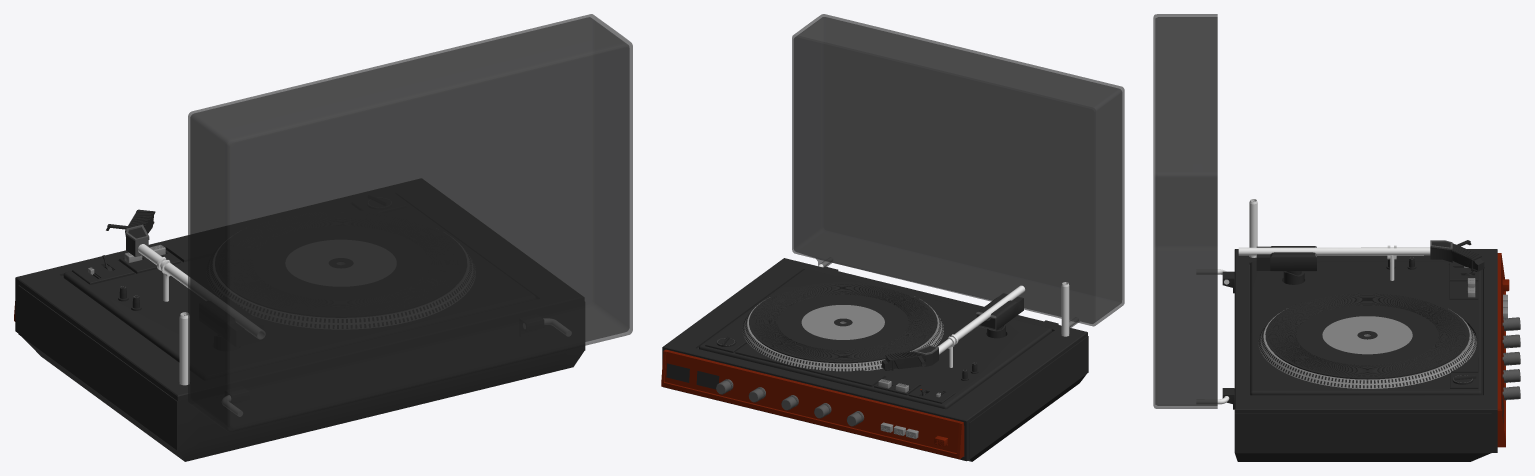
Rendered from Classic Record Player.fbx.
The picture shows the model from 3 angles, left to right: view 1: azimuth 30°, elevation 25°; view 2: azimuth 150°, elevation 25°; view 3: azimuth 270°, elevation 25°; orthographic projection. The views are drawn at different scales.
Parts seen in each view (by area): view 1: Cover, Body_2, Disk, Disk_Table, Bed_Disk, Base, Neck, Head, Main_Body, Body; view 2: Cover, Body_2, Disk, Disk_Table, Frontal_Part_Visor, Bed_Disk, Head, Base, Neck, Main_Body; view 3: Cover, Body_2, Disk, Disk_Table, Bed_Disk, Neck, Frontal_Part_Visor, Base, Head, Main_Body, Body.
Part boxes in pixels (x1,y1,x2,y2): Cover: (188,14,632,431); Body_2: (15,179,585,461); Disk: (215,210,466,316); Disk_Table: (63,193,535,379); Bed_Disk: (209,246,472,328); Base: (199,297,262,346); Neck: (138,244,264,338); Head: (106,209,155,256); Main_Body: (179,312,189,385); Body: (225,315,543,405); Cover: (792,14,1124,327); Body_2: (662,258,1088,461); Disk: (749,282,937,362); Disk_Table: (699,268,1051,409); Frontal_Part_Visor: (661,349,964,459); Bed_Disk: (742,296,943,371); Head: (882,345,938,370); Base: (975,293,1023,330); Neck: (937,285,1025,354); Main_Body: (1061,282,1069,336); Cover: (1153,14,1217,408); Body_2: (1234,249,1497,461); Disk: (1265,292,1469,378); Disk_Table: (1250,261,1481,395); Bed_Disk: (1258,310,1476,388); Neck: (1238,247,1430,255); Frontal_Part_Visor: (1497,253,1505,447); Base: (1256,246,1316,271); Head: (1430,240,1484,271); Main_Body: (1249,199,1257,257); Body: (1222,271,1234,409).
Bounding box in the file's own units: 46.71 × 40.09 × 44.98.
